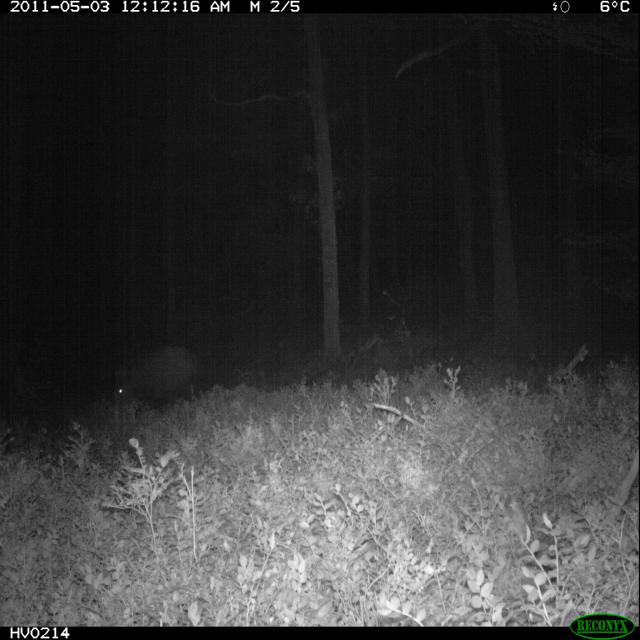boar: (106, 325, 224, 434)
